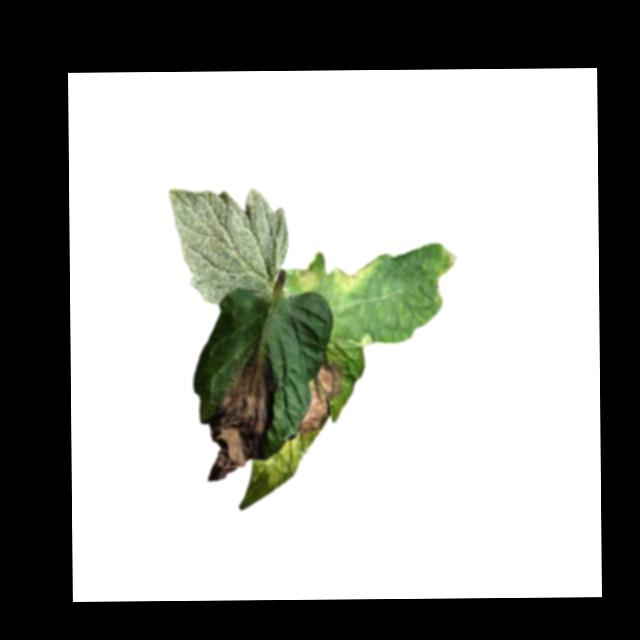Late_blight: (204, 347, 279, 482), (294, 356, 344, 434), (327, 261, 376, 300), (292, 265, 319, 295), (440, 243, 459, 275)
healthy: (164, 185, 289, 306)
